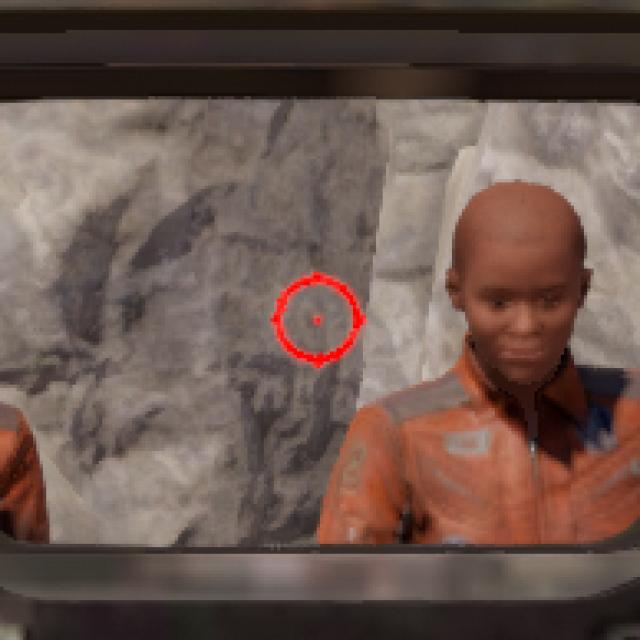Player: (316, 180, 639, 550)
